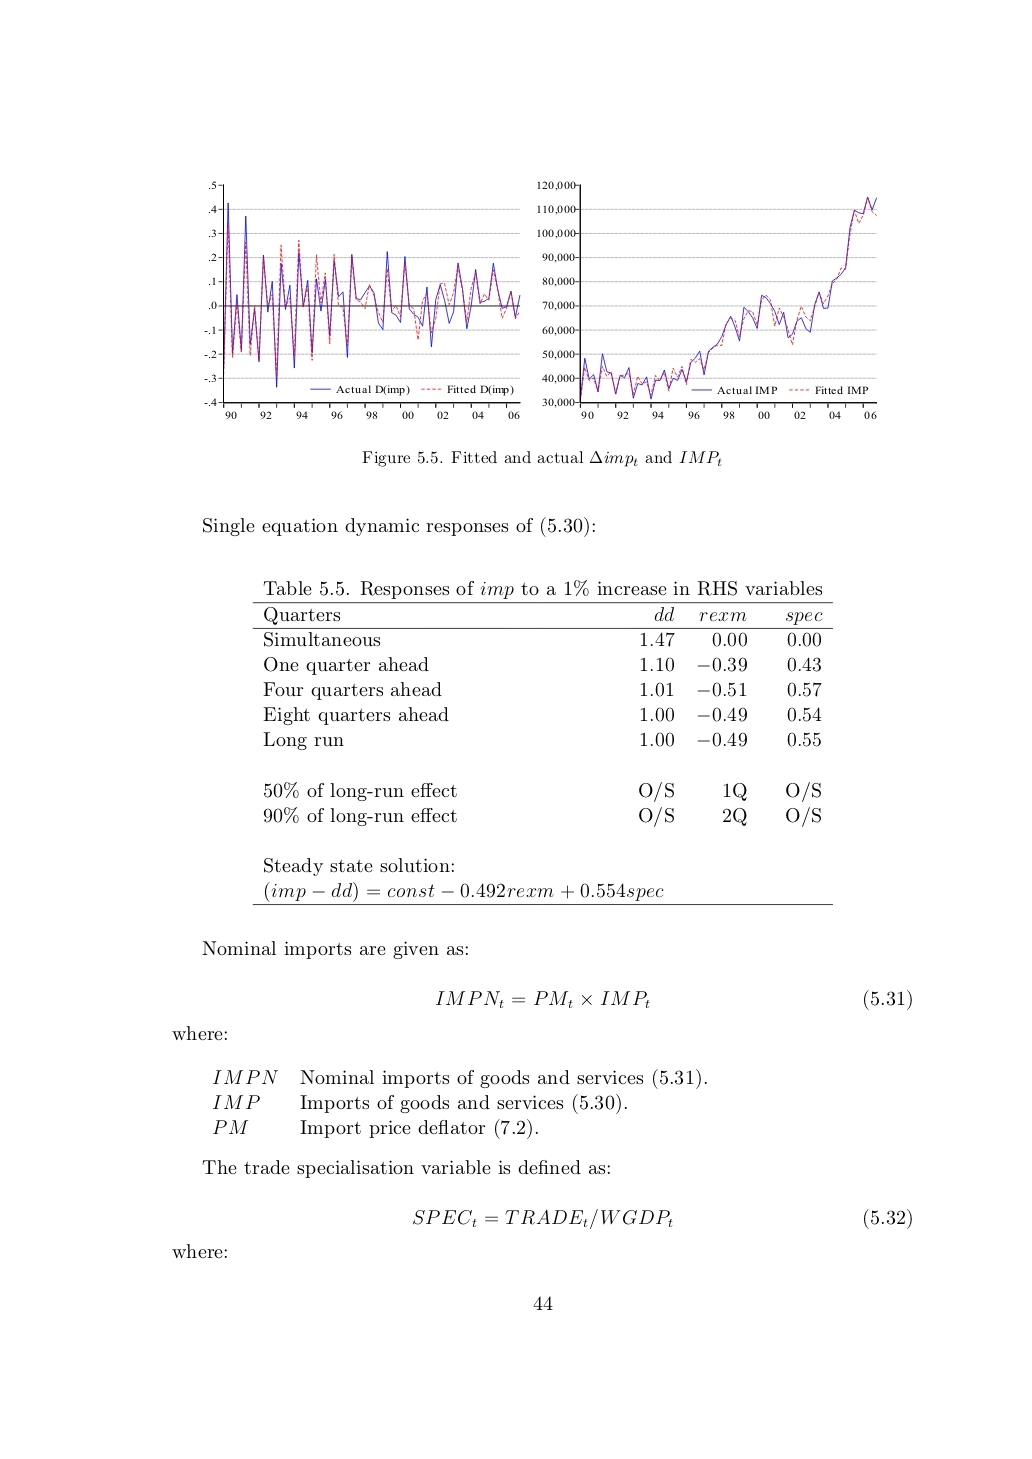Table: (252, 580, 832, 904)
figure: (537, 181, 876, 417), (204, 181, 520, 417)
formula: (413, 1208, 911, 1229), (434, 989, 911, 1010)
